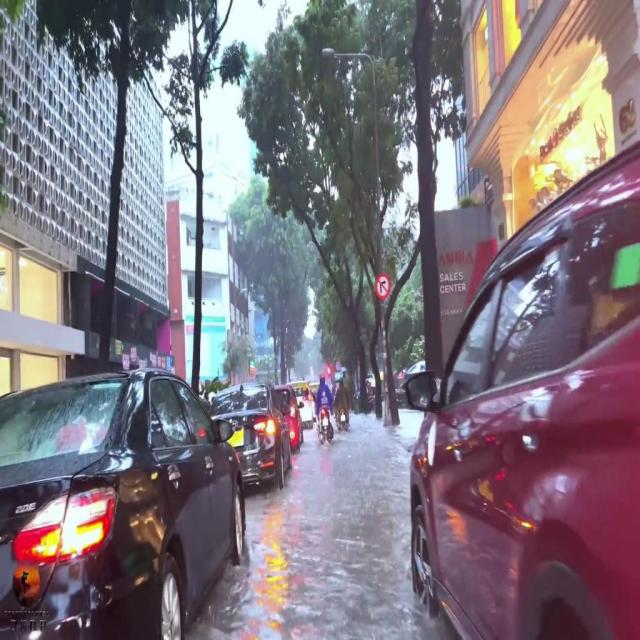cam_re_phai: (376, 272, 391, 300)
